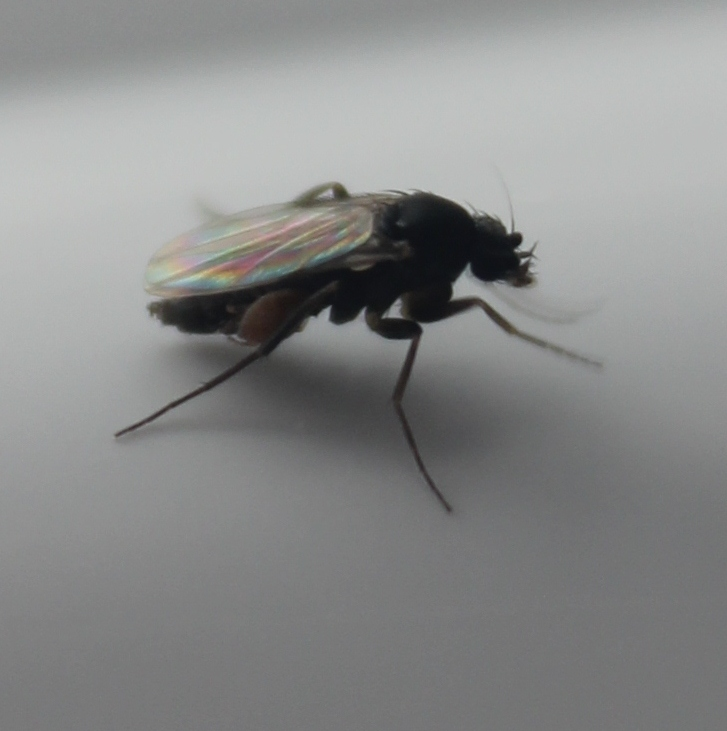phorid fly: (101, 177, 645, 540)
